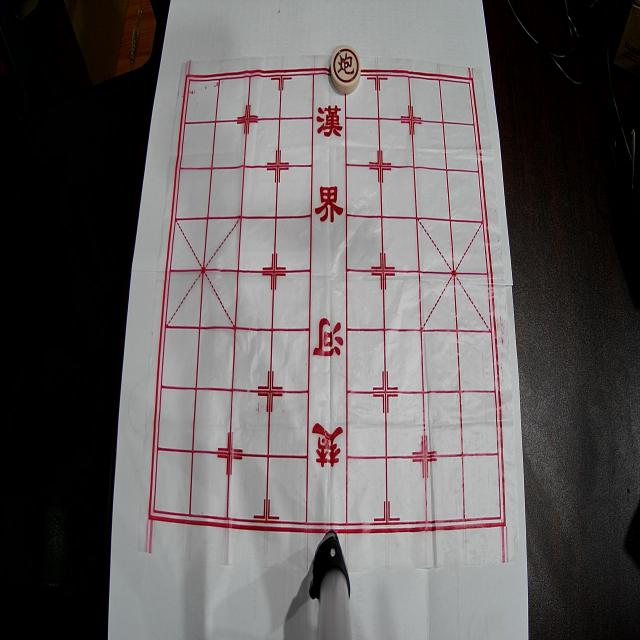red-cannon: (330, 45, 360, 94)
